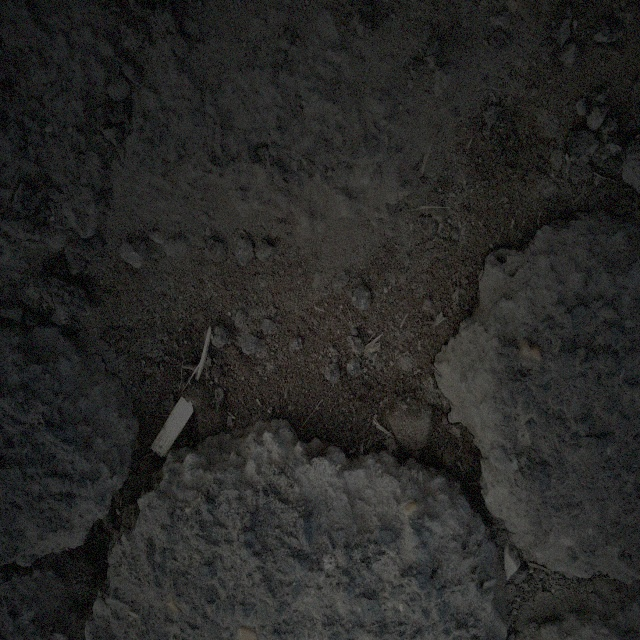pothole: (69, 169, 568, 554)
